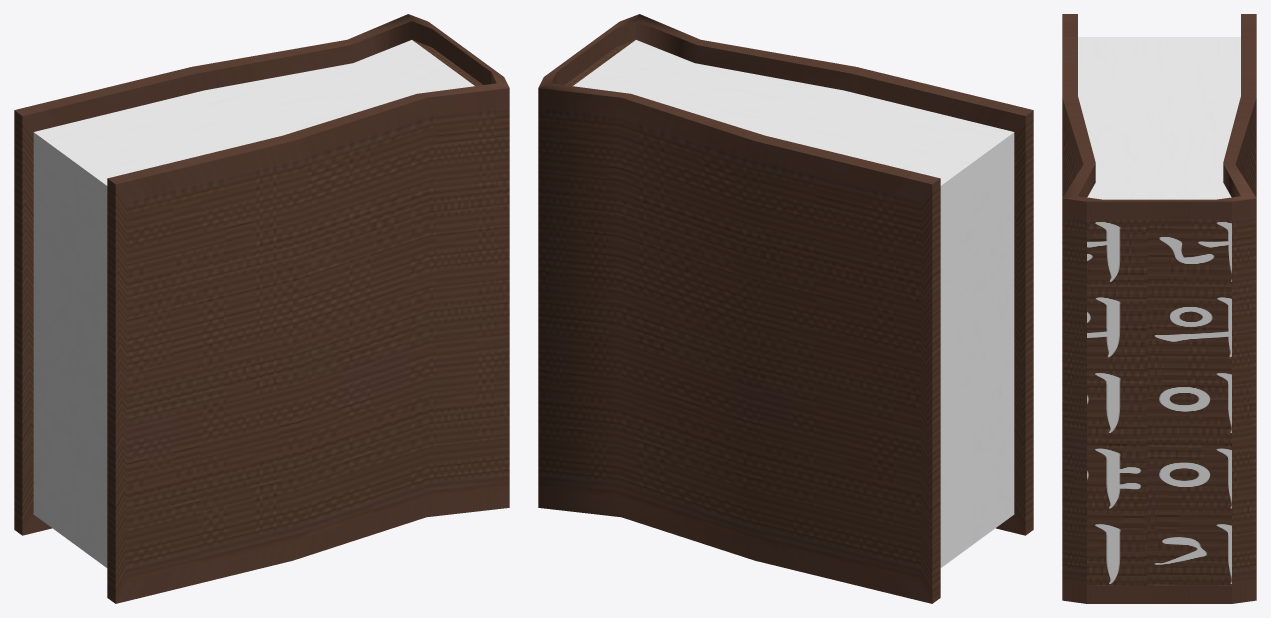
Rendered from book_yourstory.FBX.
3 renders of one model, left to right at view 1: azimuth 30°, elevation 25°; view 2: azimuth 150°, elevation 25°; view 3: azimuth 270°, elevation 25°, orthographic. The views are drawn at different scales.
Visible parts, largest first — view 1: Box002; view 2: Box002; view 3: Box002.
Boxes of the visible parts, x1,y1,x2,y2 form: Box002: (14, 14, 509, 603); Box002: (538, 14, 1033, 603); Box002: (1062, 14, 1256, 603).
Bounding box in the file's own units: 30.45 × 13.33 × 30.41.
Materials: 3 (3 with a texture image).
